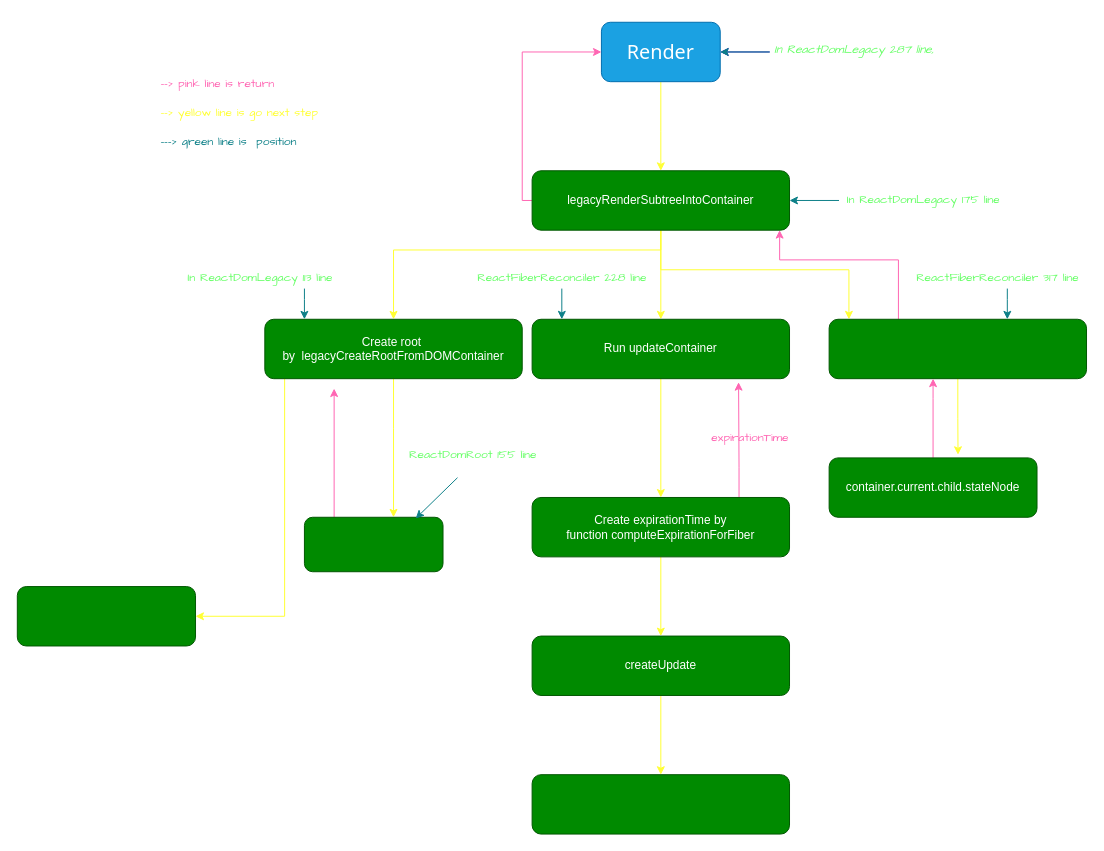
This 1104x851 diagram has some shape labels left out. The shapes that lost their labels are listed below. From the top down, each one's centre as x and y in pixels, then its label:
[957,348]: getPublicRootInstance(fiberRoot)
[373,544]: createLegacyRoot
[106,616]: Clear any existing content
[660,804]: enqueueUpdate & scheduleWork
